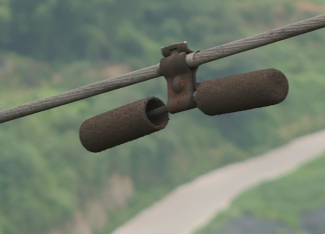damper: (76, 38, 293, 155)
